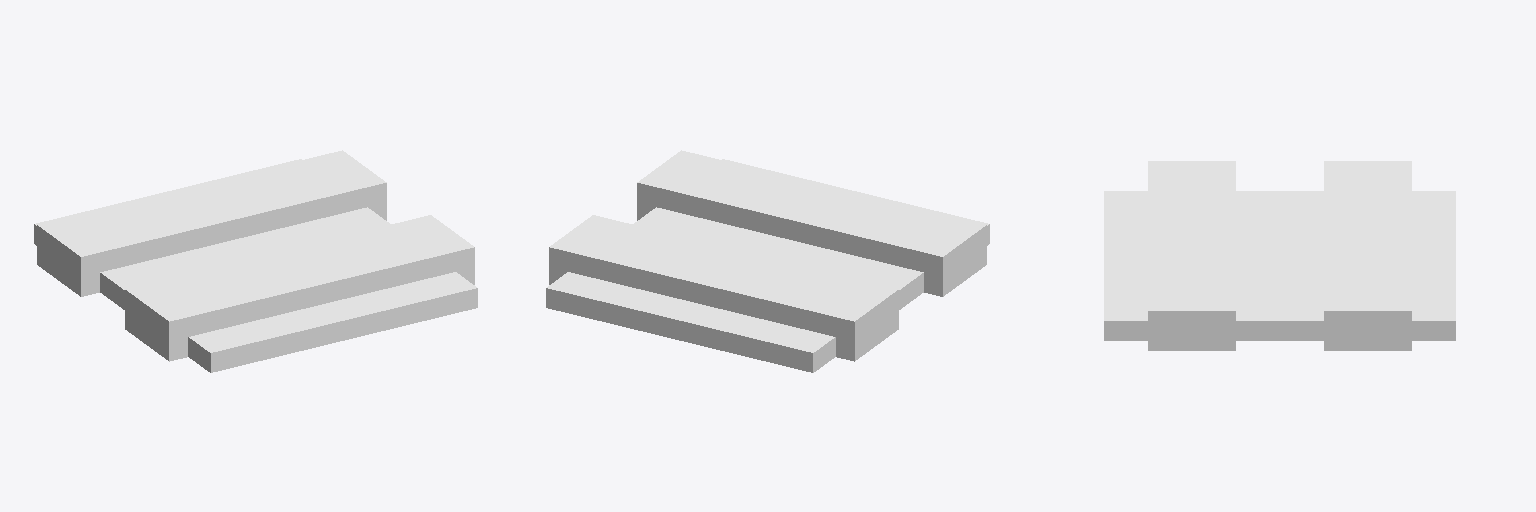
The model's file is BridgeObject.obj.
3 renders of one model, left to right at view 1: azimuth 30°, elevation 25°; view 2: azimuth 150°, elevation 25°; view 3: azimuth 270°, elevation 25°, orthographic.
Parts seen in each view (by area): view 1: object 1; view 2: object 1; view 3: object 1.
Boxes of the visible parts, x1,y1,x2,y2 form: object 1: [34, 150, 477, 372]; object 1: [546, 150, 989, 372]; object 1: [1104, 161, 1455, 350].
Size of the model in its own units: 1.6 by 0.2 by 1.6.